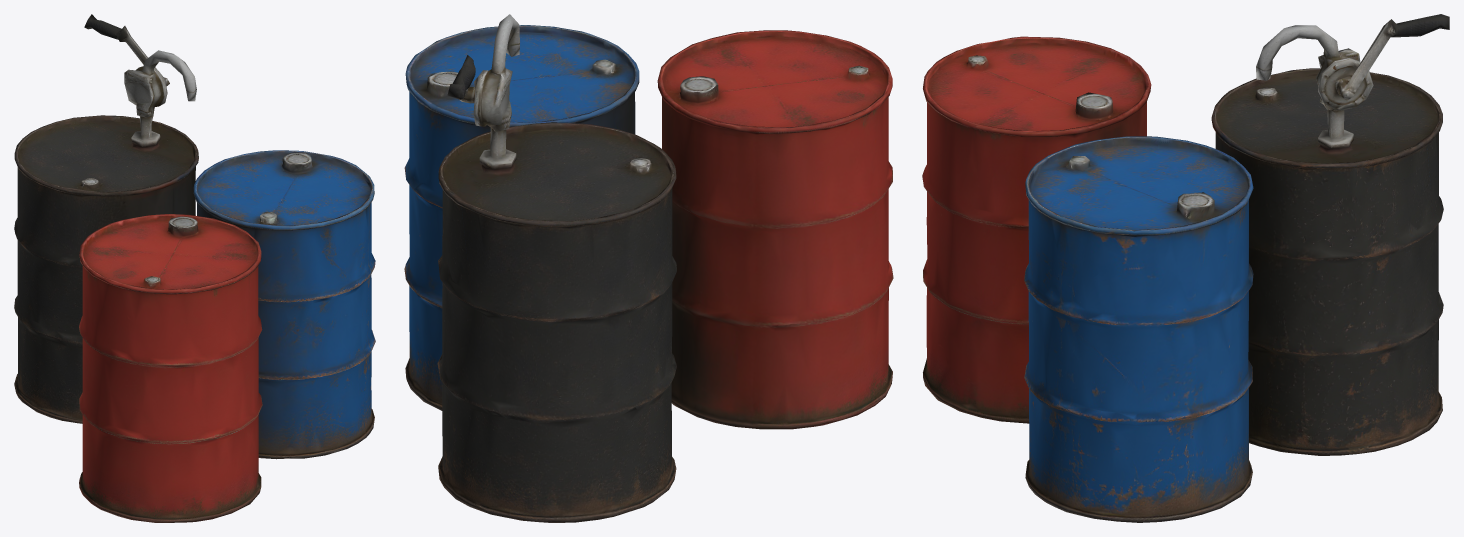
File: oil_drums.glb
3 views of the same model, side by side, from view 1: azimuth 30°, elevation 25°; view 2: azimuth 150°, elevation 25°; view 3: azimuth 270°, elevation 25° (orthographic). The views are drawn at different scales.
Parts seen in each view (by area): view 1: tripo_node_d63f0491-2bbd-4bab-80de-697f16a7e876; view 2: tripo_node_d63f0491-2bbd-4bab-80de-697f16a7e876; view 3: tripo_node_d63f0491-2bbd-4bab-80de-697f16a7e876.
Boxes of the visible parts, box(x1,y1,x2,y2) form: tripo_node_d63f0491-2bbd-4bab-80de-697f16a7e876: box(14, 14, 375, 522); tripo_node_d63f0491-2bbd-4bab-80de-697f16a7e876: box(404, 14, 893, 522); tripo_node_d63f0491-2bbd-4bab-80de-697f16a7e876: box(922, 14, 1449, 522).
Bounding box in the file's own units: 0.827 × 0.85 × 0.9649.
1 material, 1 textured.
